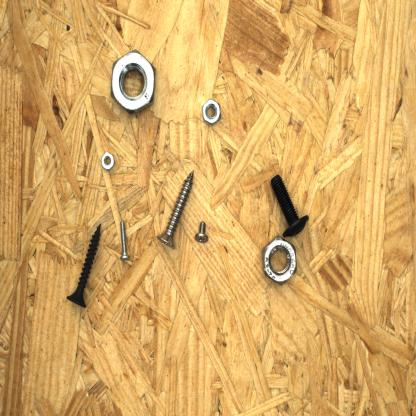screw: (154, 168, 196, 251), (64, 222, 103, 310), (266, 170, 312, 241), (115, 218, 134, 262), (194, 218, 211, 247)
